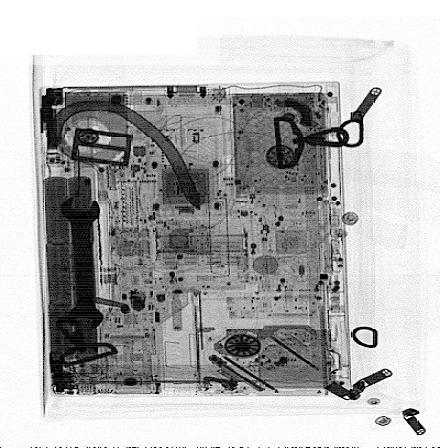Wrench: (58, 195, 105, 333)
